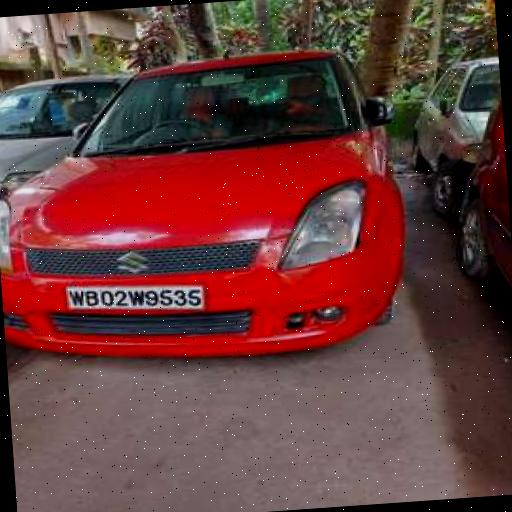license_plate`: (64, 276, 202, 322)
